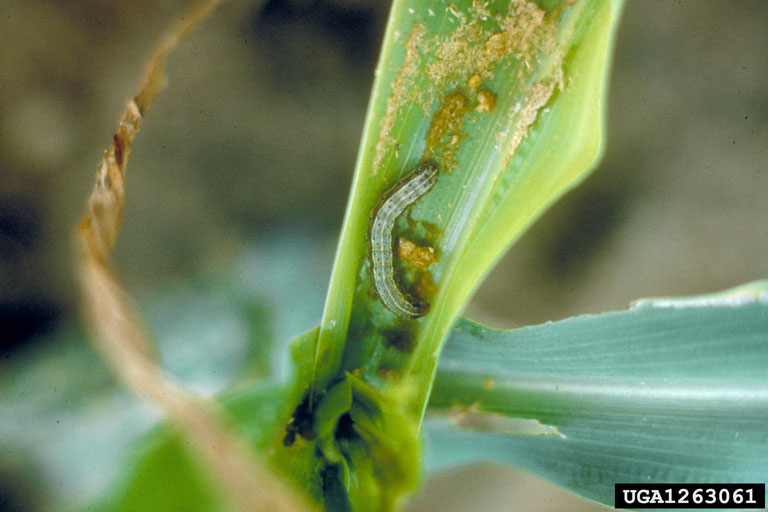Armyworm: (365, 146, 450, 334)
